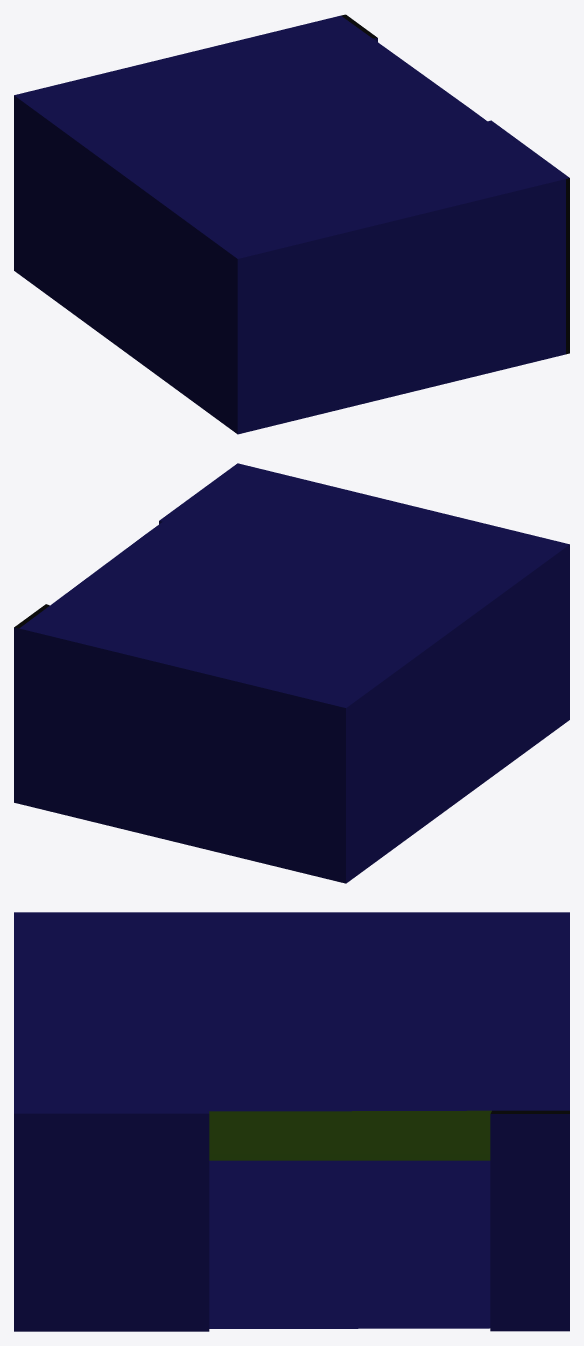
File: lapr 4.fbx
3 renders of one model, top to bottom at view 1: azimuth 30°, elevation 25°; view 2: azimuth 150°, elevation 25°; view 3: azimuth 270°, elevation 25°, orthographic. The views are drawn at different scales.
Parts seen in each view (by area): view 1: pCube9; view 2: pCube9; view 3: pCube9.
Boxes of the visible parts, left/top/right/bottom form: pCube9: left=14, top=14, right=569, bottom=434; pCube9: left=14, top=463, right=569, bottom=883; pCube9: left=14, top=912, right=569, bottom=1331.
Bounding box in the file's own units: 600 × 303 × 700.
